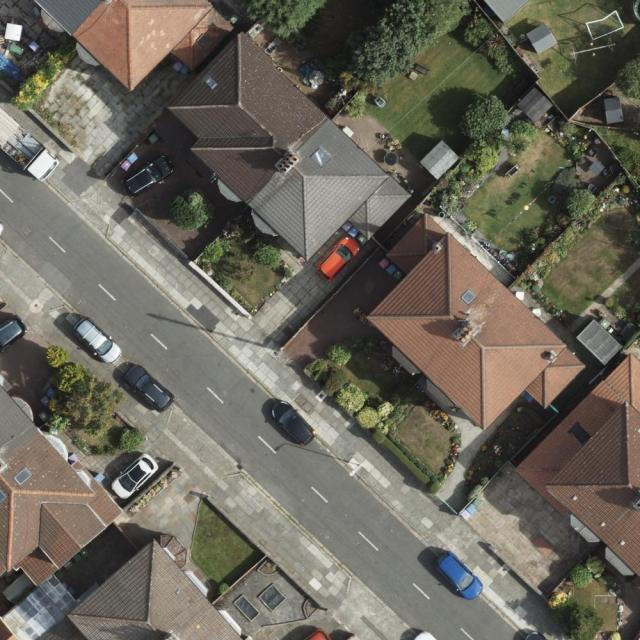roof: (0, 383, 248, 640), (170, 29, 413, 259), (366, 211, 584, 430), (516, 352, 640, 579), (35, 0, 236, 93)
skylight: (310, 147, 333, 169), (194, 32, 216, 50), (14, 468, 33, 486), (461, 289, 479, 305), (202, 74, 219, 89), (0, 491, 6, 505)
